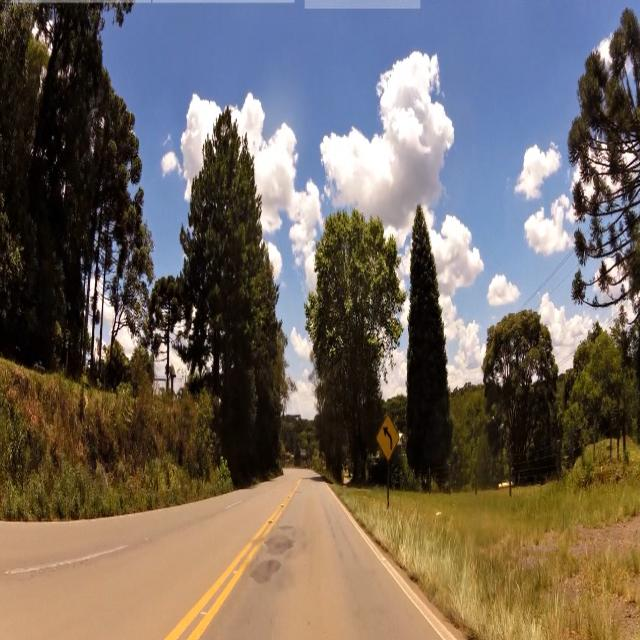A-2a: (377, 408, 401, 467)
